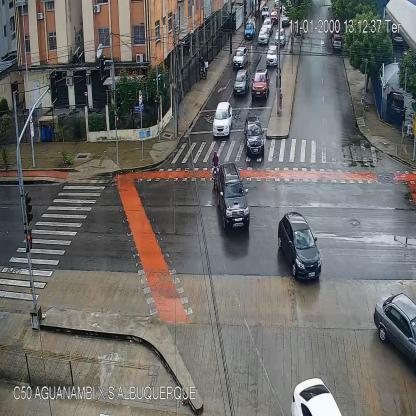car: (373, 293, 416, 372), (278, 215, 323, 283), (216, 162, 250, 234), (292, 377, 340, 416), (244, 117, 266, 158), (212, 102, 233, 139), (253, 69, 271, 100), (233, 68, 249, 96), (265, 45, 278, 71), (245, 17, 256, 39), (274, 28, 286, 48), (258, 27, 270, 44), (262, 16, 273, 34), (280, 13, 290, 26), (270, 10, 278, 22), (334, 35, 341, 48), (261, 6, 269, 17)
motorbike: (211, 150, 219, 192), (198, 55, 208, 80)
person: (362, 86, 366, 110), (280, 90, 283, 113)
